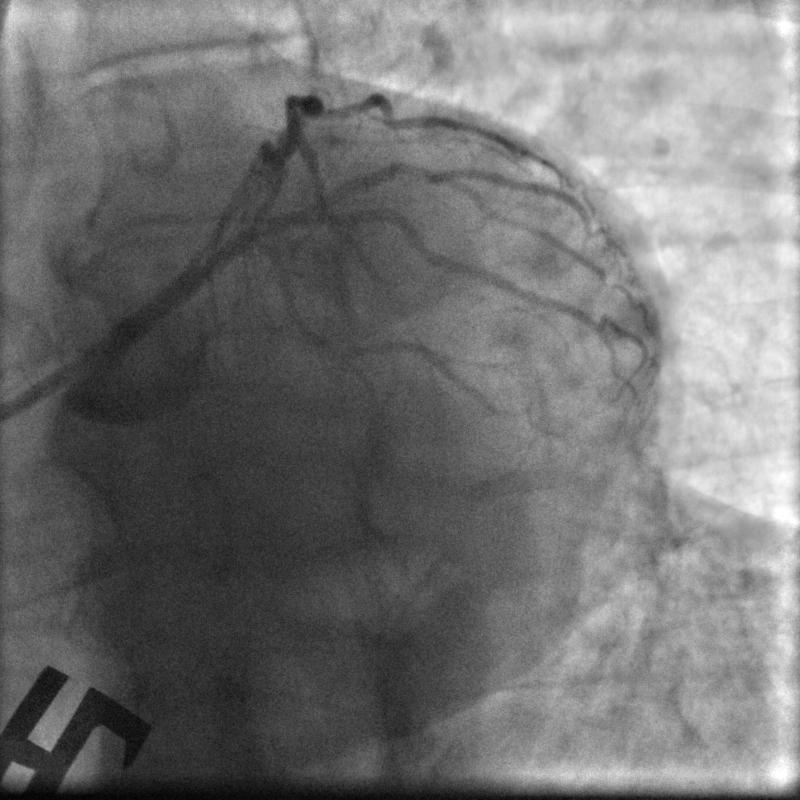Stenosis: (391, 155, 440, 186)
